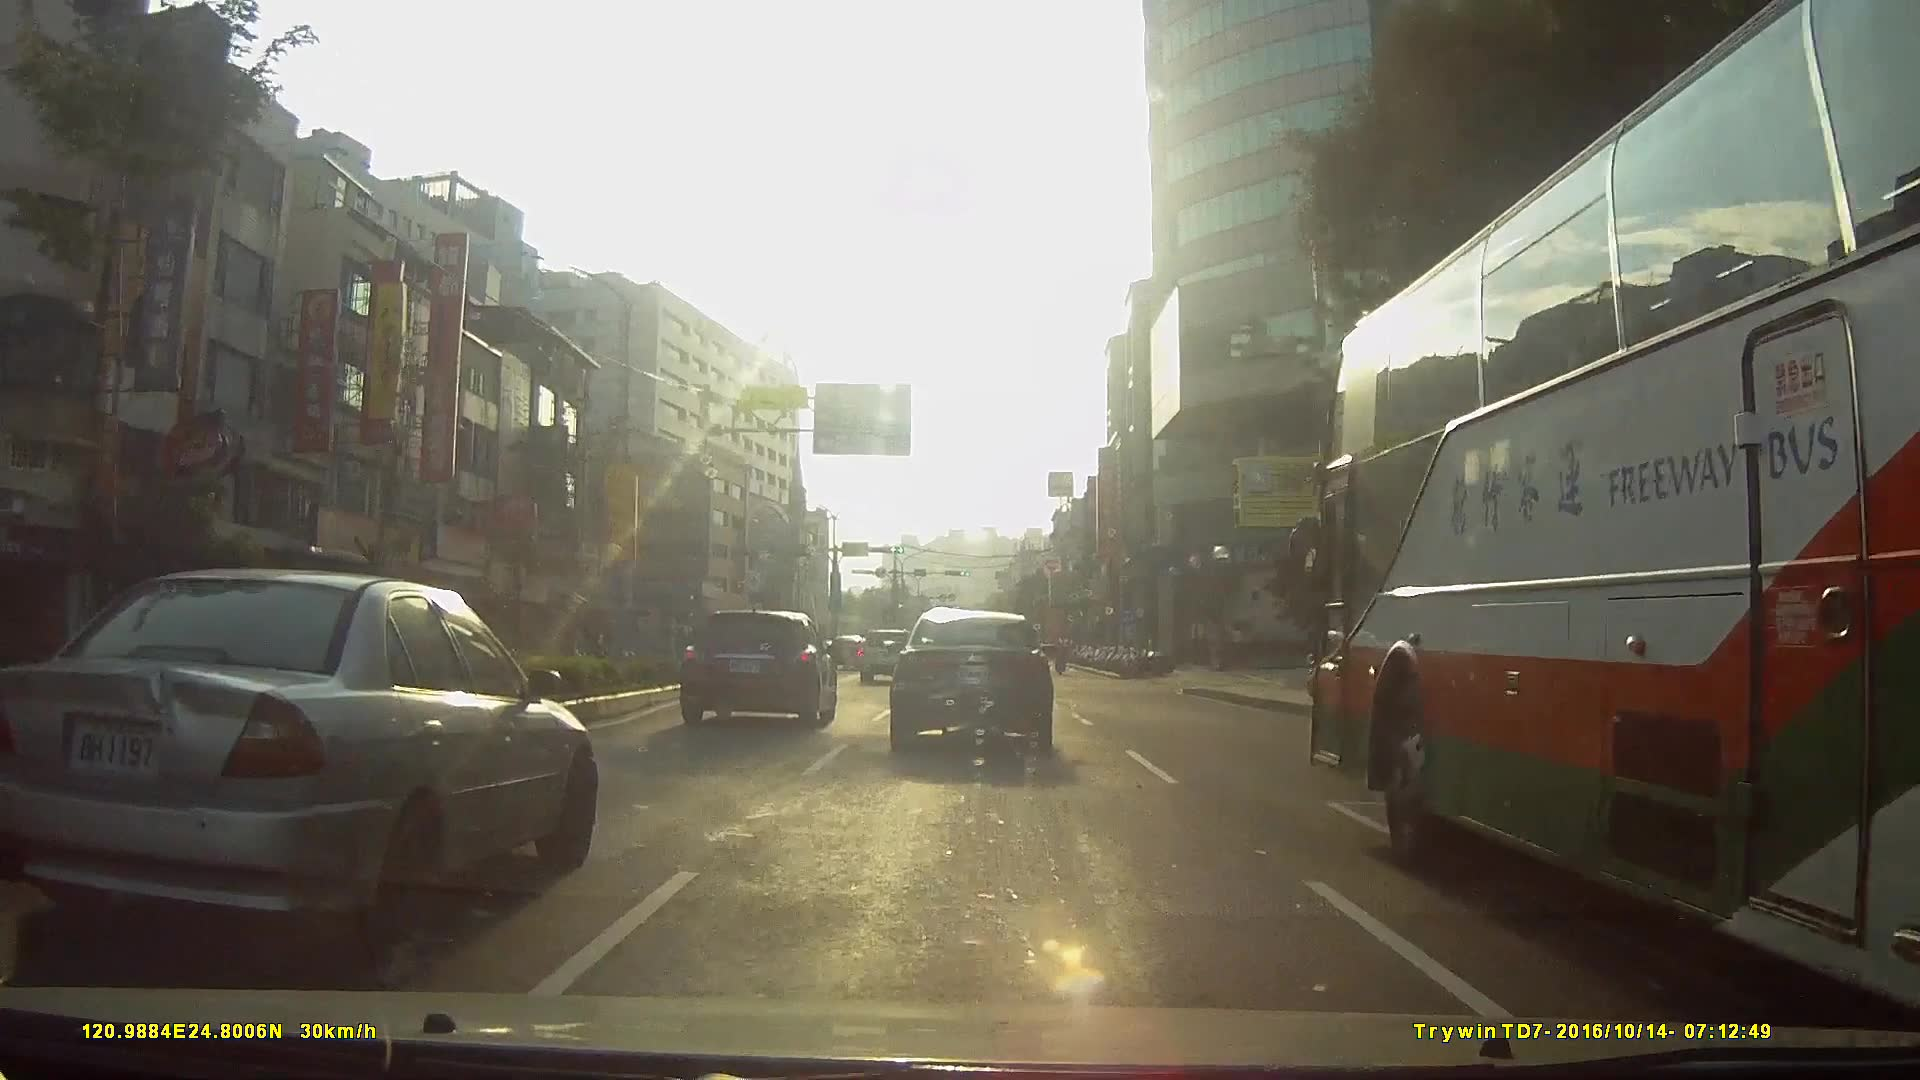vehicle: (1288, 11, 1917, 1001), (0, 564, 596, 973), (884, 604, 1052, 752), (676, 609, 836, 727), (855, 629, 913, 683)
